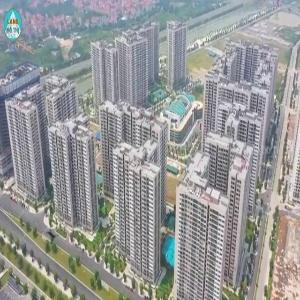drone: (29, 212, 75, 258)
